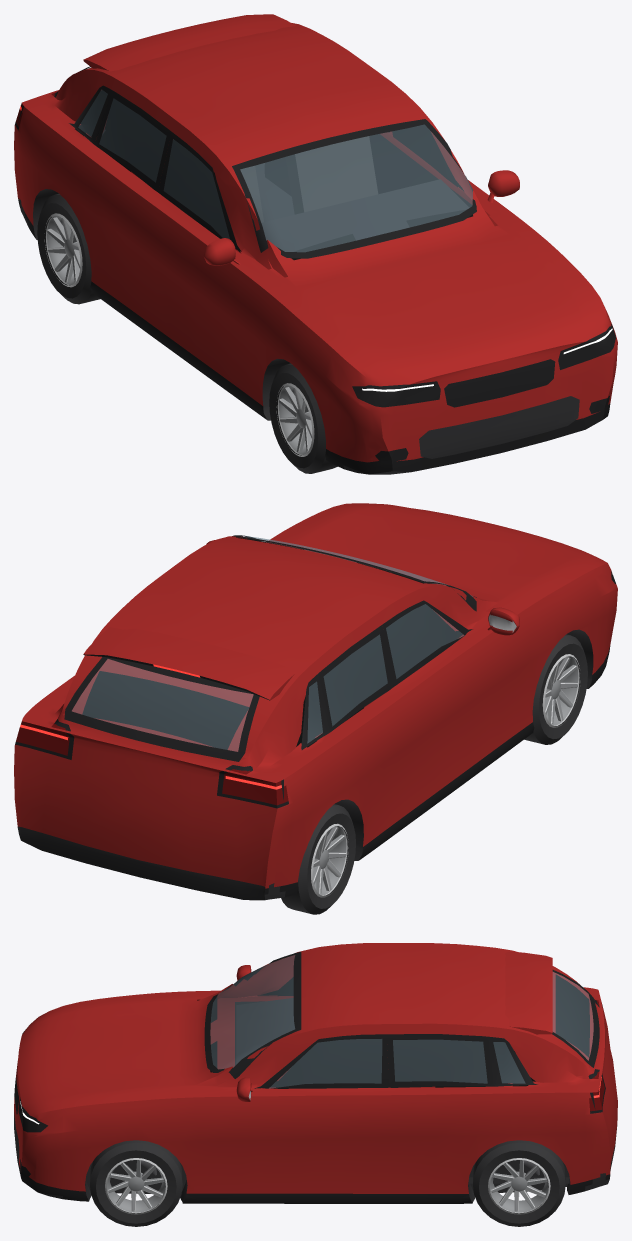
Rendered from hatchback.glb.
The picture shows the model from 3 angles, top to bottom: view 1: azimuth 30°, elevation 25°; view 2: azimuth 150°, elevation 25°; view 3: azimuth 270°, elevation 25°; orthographic projection. The views are drawn at different scales.
Parts seen in each view (by area): view 1: body, glass_windshield, interior, glass_side_R, wheel_FR_mesh, wheel_RR_mesh, spoiler, mirror_L, mirror_R; view 2: body, glass_rear, glass_side_R, spoiler, wheel_RR_mesh, wheel_FR_mesh, glass_windshield, mirror_R; view 3: body, glass_side_L, glass_windshield, wheel_FL_mesh, wheel_RL_mesh, spoiler, glass_rear, interior.
Boxes of the visible parts, x1=… form: body: x1=14, y1=23, x2=617, y2=474; glass_windshield: x1=232, y1=119, x2=476, y2=258; interior: x1=102, y1=129, x2=472, y2=251; glass_side_R: x1=69, y1=85, x2=240, y2=252; wheel_FR_mesh: x1=269, y1=363, x2=337, y2=473; wheel_RR_mesh: x1=37, y1=193, x2=100, y2=304; spoiler: x1=83, y1=14, x2=295, y2=71; mirror_L: x1=487, y1=170, x2=519, y2=202; mirror_R: x1=203, y1=238, x2=240, y2=265; body: x1=14, y1=503, x2=617, y2=900; glass_rear: x1=64, y1=657, x2=259, y2=761; glass_side_R: x1=301, y1=600, x2=472, y2=749; spoiler: x1=83, y1=627, x2=295, y2=700; wheel_RR_mesh: x1=281, y1=804, x2=355, y2=914; wheel_FR_mesh: x1=524, y1=634, x2=587, y2=744; glass_windshield: x1=232, y1=535, x2=476, y2=611; mirror_R: x1=487, y1=607, x2=519, y2=635; body: x1=14, y1=943, x2=617, y2=1203; glass_side_L: x1=254, y1=1034, x2=537, y2=1088; glass_windshield: x1=204, y1=952, x2=301, y2=1078; wheel_FL_mesh: x1=89, y1=1140, x2=182, y2=1226; wheel_RL_mesh: x1=473, y1=1140, x2=565, y2=1226; spoiler: x1=505, y1=951, x2=552, y2=1034; glass_rear: x1=552, y1=970, x2=599, y2=1067; interior: x1=235, y1=998, x2=569, y2=1183.
Size of the model in its own units: 2.03 by 1.46 by 4.1.
